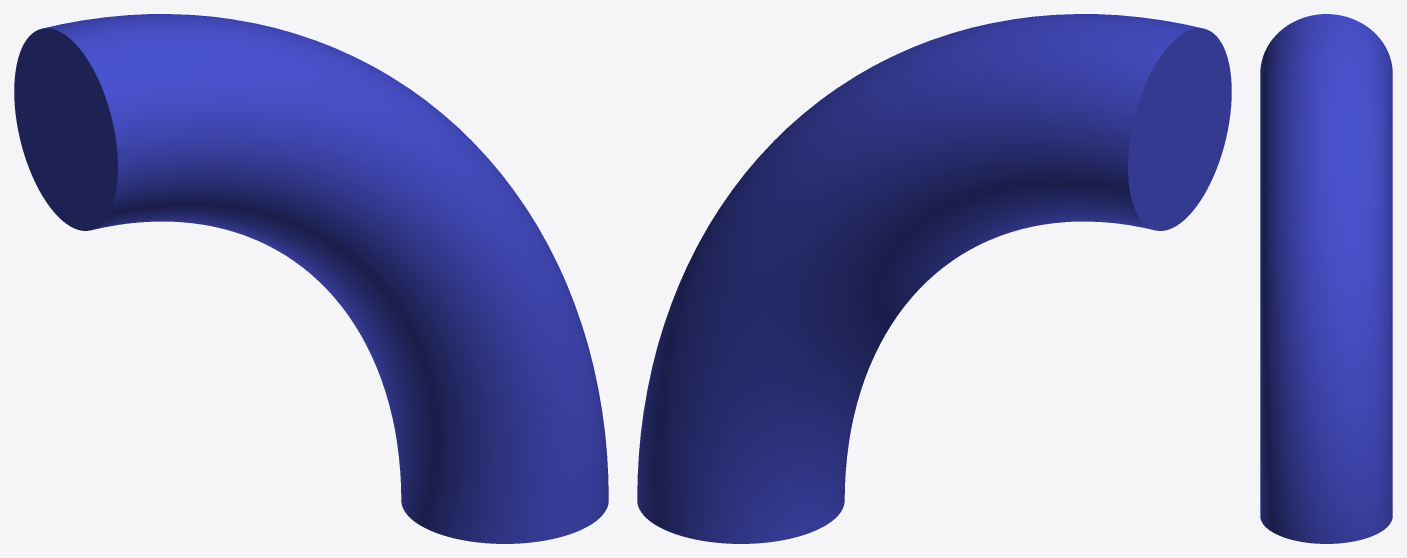
File: Arm.fbx
The picture shows the model from 3 angles, left to right: view 1: azimuth 30°, elevation 25°; view 2: azimuth 150°, elevation 25°; view 3: azimuth 270°, elevation 25°; orthographic projection. The views are drawn at different scales.
Parts seen in each view (by area): view 1: root; view 2: root; view 3: root.
Boxes of the visible parts, x1,y1,x2,y2 form: root: (14, 14, 608, 543); root: (637, 14, 1231, 543); root: (1260, 14, 1392, 543).
Size of the model in its own units: 0.118 by 0.1219 by 0.0401.
